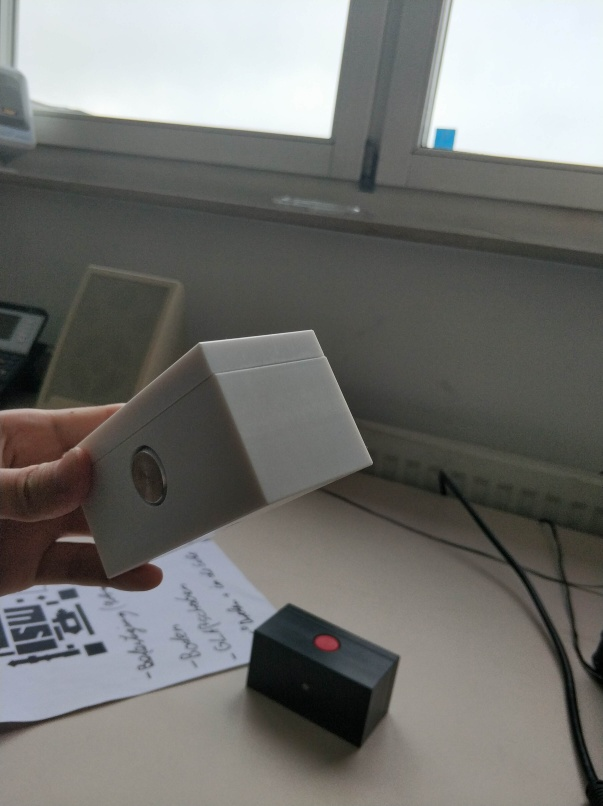black+black+red: (241, 598, 403, 754)
white+white+silver: (59, 327, 378, 583)
